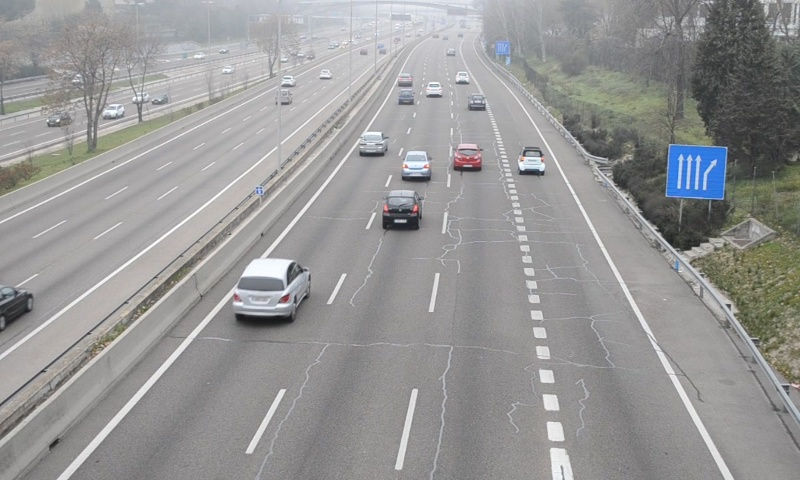car: (233, 257, 310, 319), (382, 189, 424, 230), (401, 150, 432, 183), (454, 143, 484, 172), (518, 146, 546, 176), (358, 131, 388, 157), (467, 93, 486, 111), (397, 88, 416, 106), (425, 80, 443, 98), (396, 72, 414, 86)
